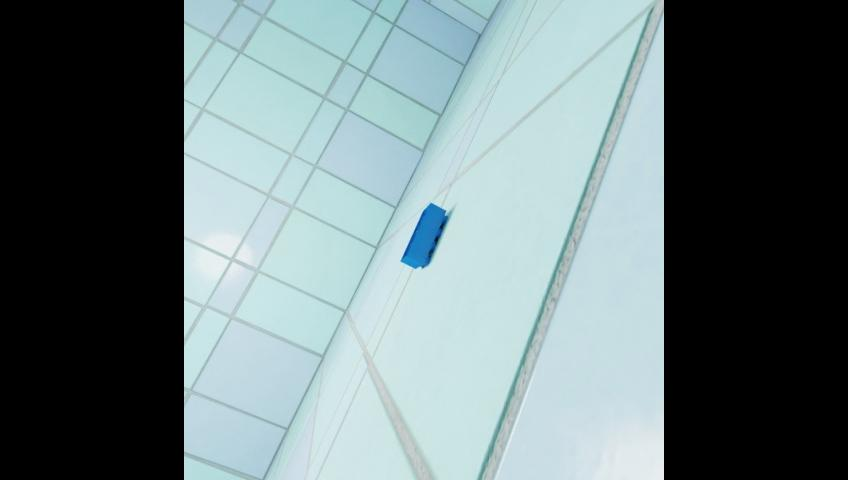4x2_blue: (399, 203, 447, 269)
